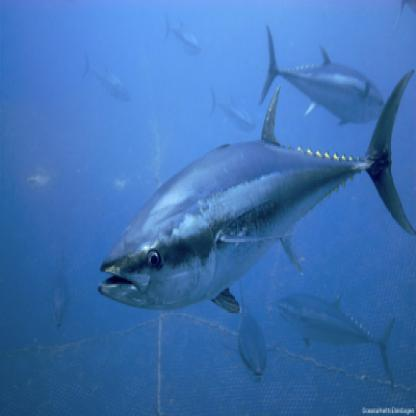Bio: (94, 64, 414, 314), (254, 20, 389, 129), (270, 283, 404, 390)
